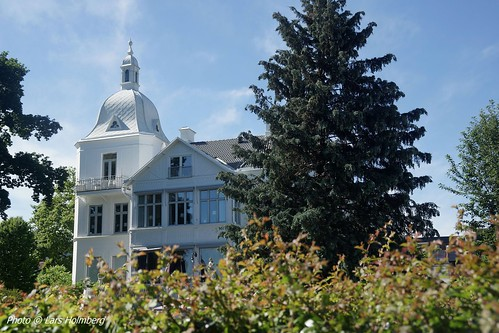low: (71, 86, 293, 295)
